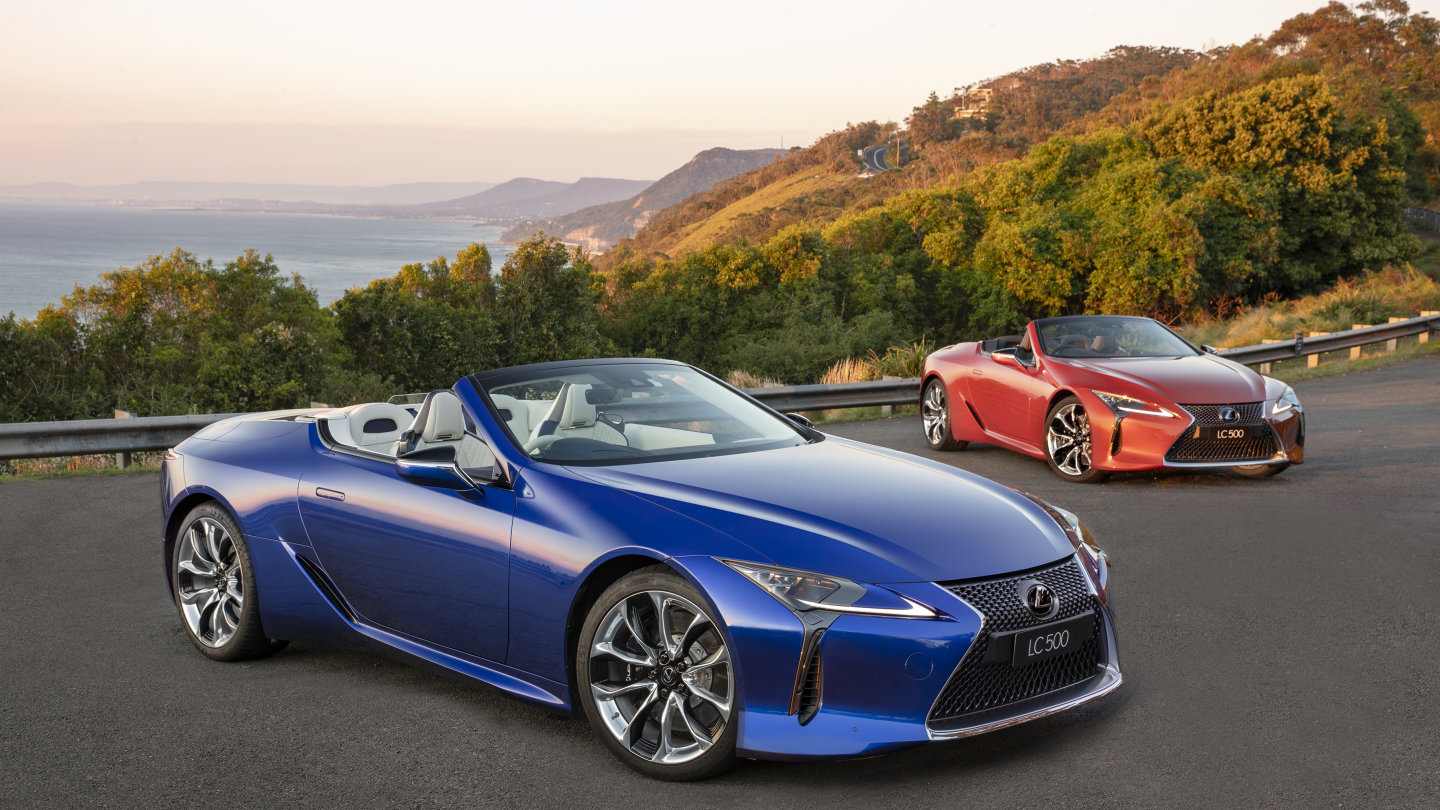car: (158, 358, 1124, 779), (919, 316, 1307, 484)
